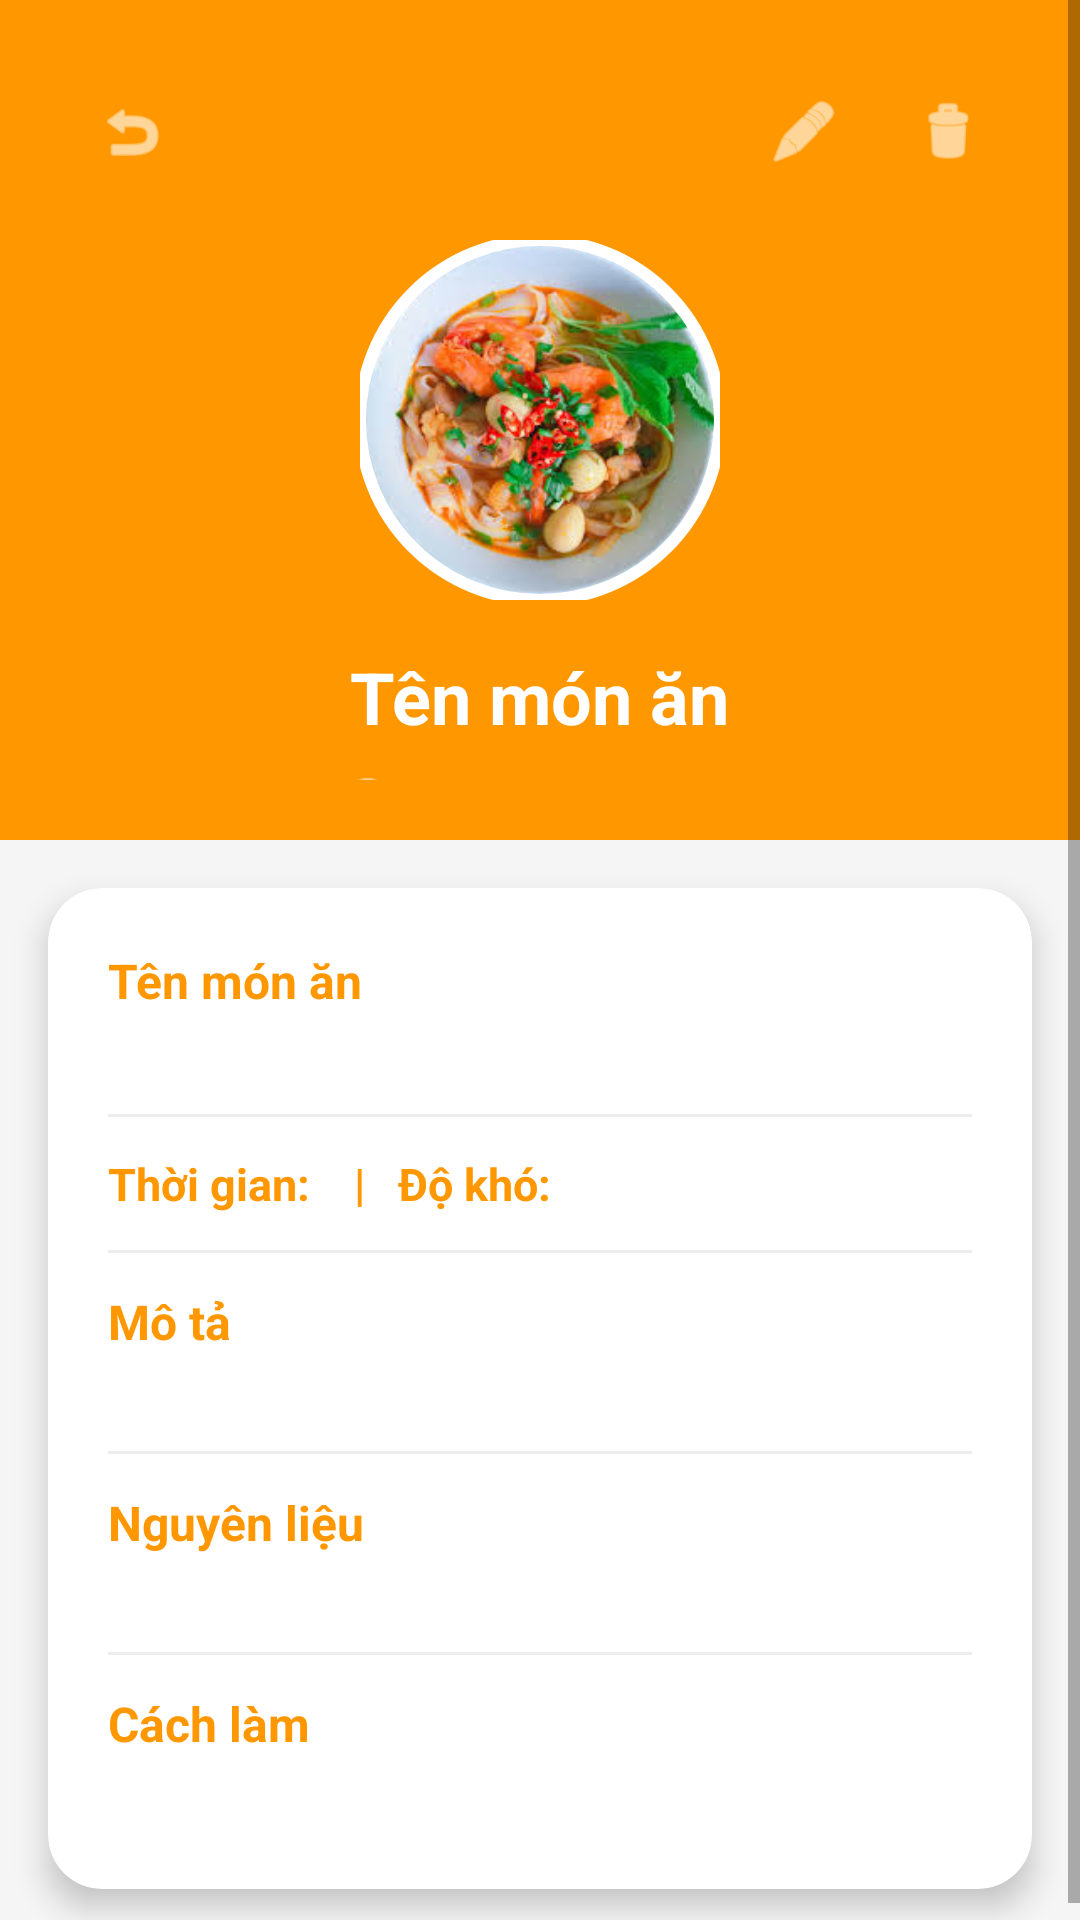

Locate icon controls on the screen. Image size 1080 × 1920, boxes as (x1, y1, x2, y2).
Chỉnh sửa: (773, 101, 834, 162)
Hình món ăn: (360, 240, 720, 600)
Quay lại: (107, 109, 159, 156)
Xóa: (928, 103, 969, 159)
